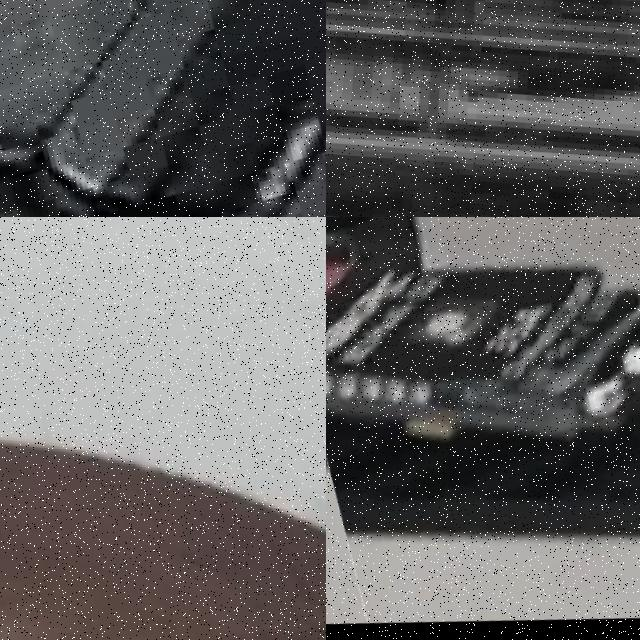0: (0, 0, 326, 217)
drone: (326, 217, 640, 640)
